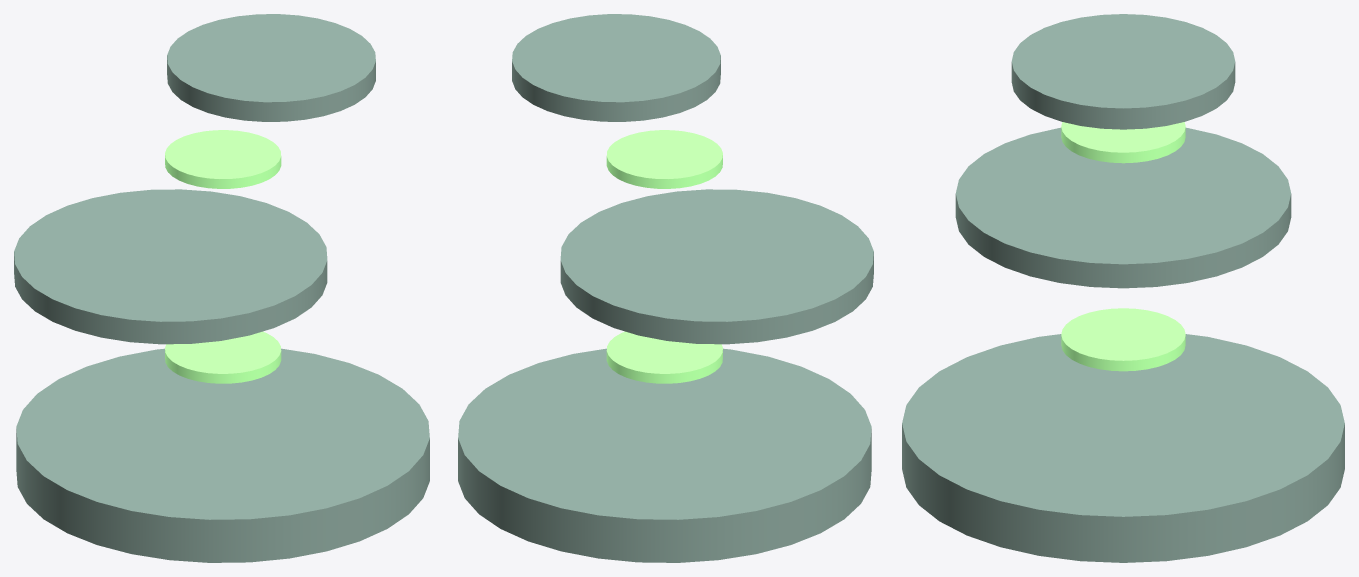
File: Tech3.fbx
3 views of the same model, side by side, from view 1: azimuth 30°, elevation 25°; view 2: azimuth 150°, elevation 25°; view 3: azimuth 270°, elevation 25° (orthographic). The views are drawn at different scales.
Visible parts, largest first — view 1: Tech3, Tech3_Platform1, Tech3_Platform2; view 2: Tech3, Tech3_Platform1, Tech3_Platform2; view 3: Tech3, Tech3_Platform1, Tech3_Platform2.
Part boxes in pixels (x1,y1,x2,y2): Tech3: [16, 130, 429, 562]; Tech3_Platform1: [14, 189, 327, 344]; Tech3_Platform2: [167, 14, 375, 121]; Tech3: [458, 130, 871, 562]; Tech3_Platform1: [560, 189, 873, 344]; Tech3_Platform2: [512, 14, 720, 121]; Tech3: [902, 122, 1344, 562]; Tech3_Platform1: [955, 127, 1291, 288]; Tech3_Platform2: [1011, 14, 1235, 129].
Bounding box in the file's own units: 205 × 216 × 200.
